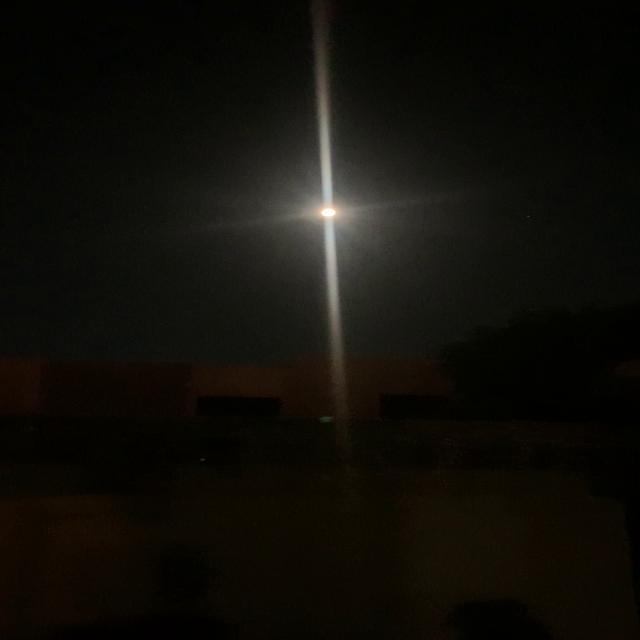moon: (304, 200, 350, 227)
